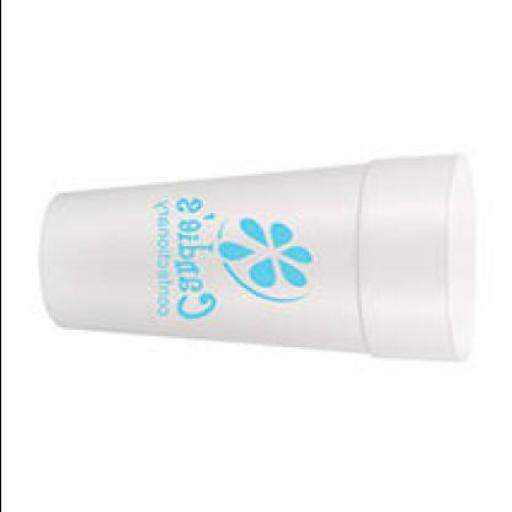paper: (41, 161, 476, 365)
